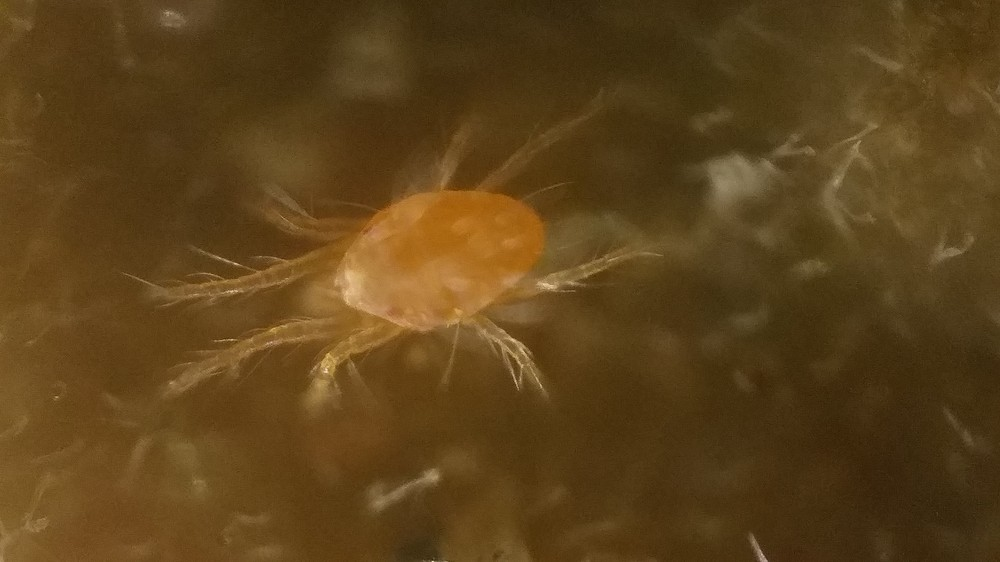Aracnido Rojo: (179, 100, 677, 417)
